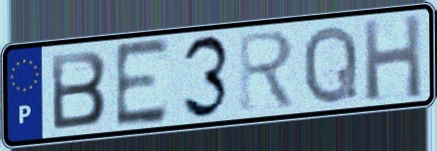3: (175, 32, 234, 121)
B: (48, 48, 110, 133)
E: (112, 35, 172, 131)
H: (360, 11, 425, 104)
Q: (301, 22, 361, 107)
R: (236, 28, 299, 113)
